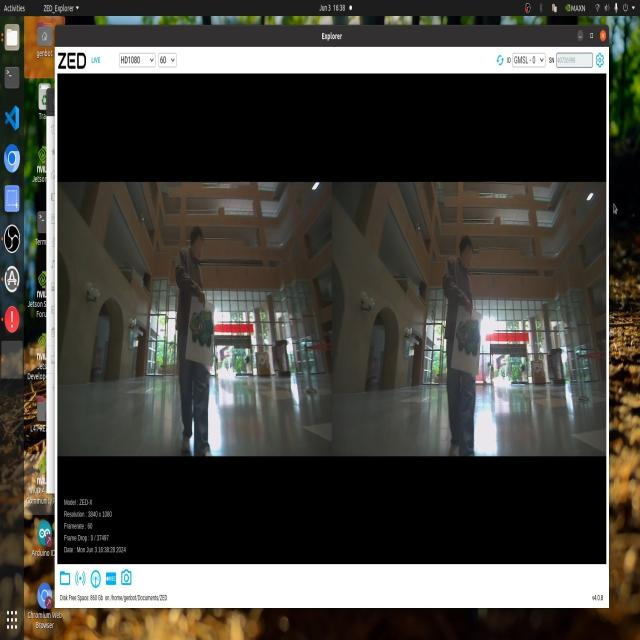green: (181, 299, 225, 354), (455, 309, 483, 362)
